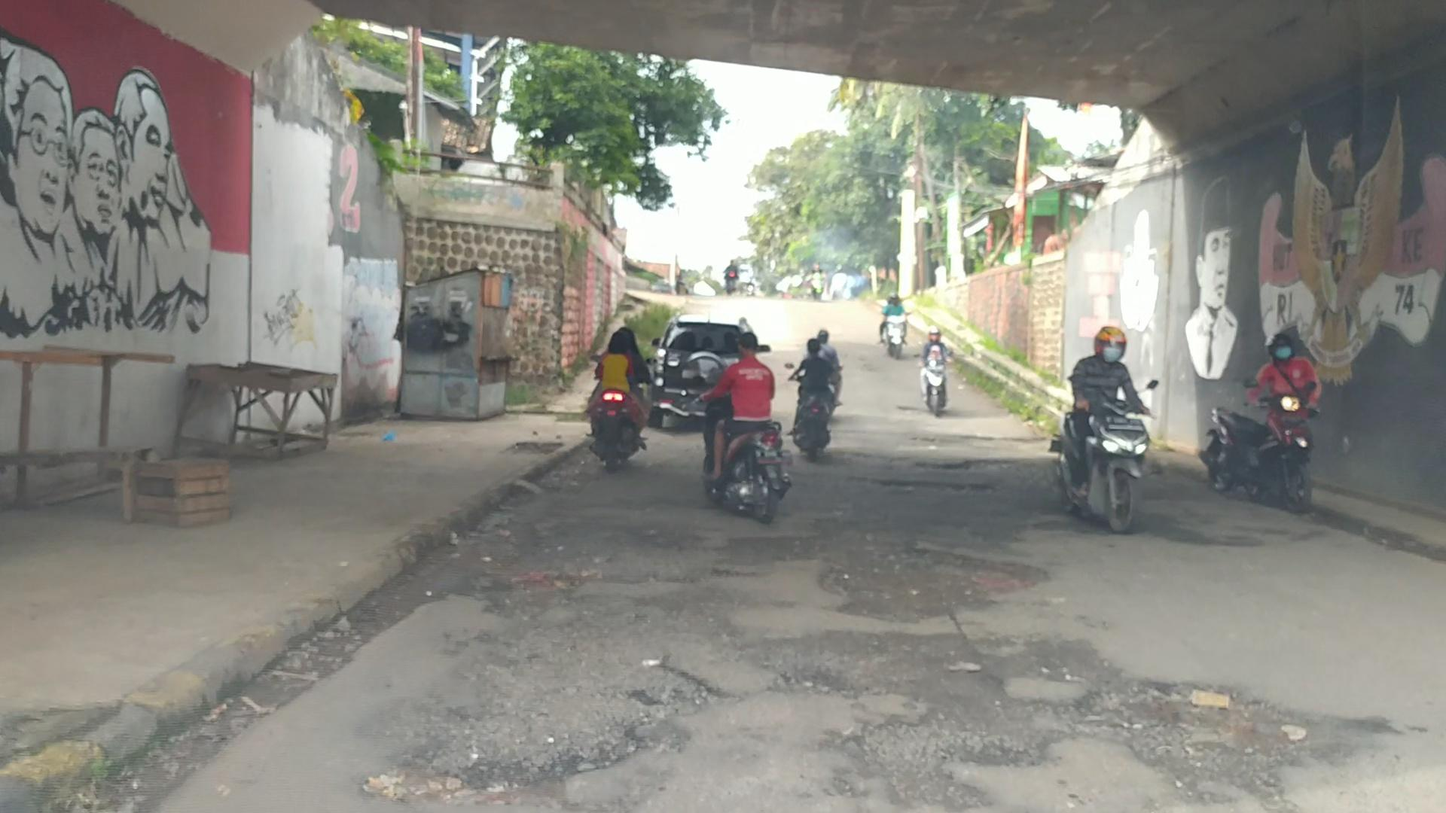pothole: (381, 572, 724, 781), (743, 630, 1060, 808), (1071, 657, 1403, 800), (817, 549, 1034, 618)
